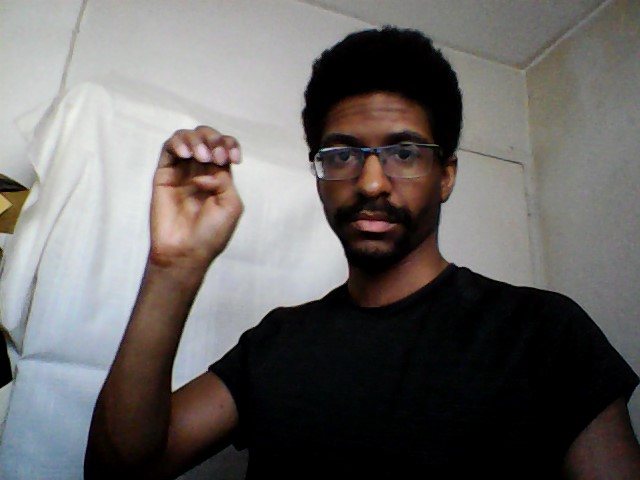e: (142, 120, 247, 271)
